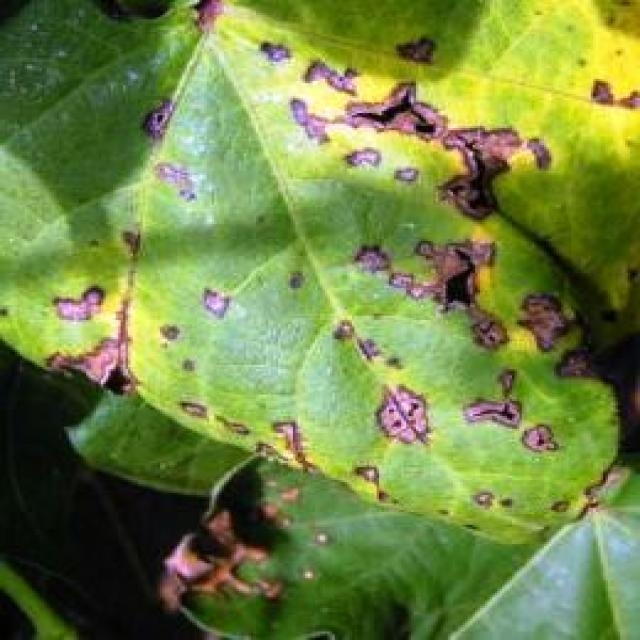Bacterial Blight: (128, 44, 596, 494)
